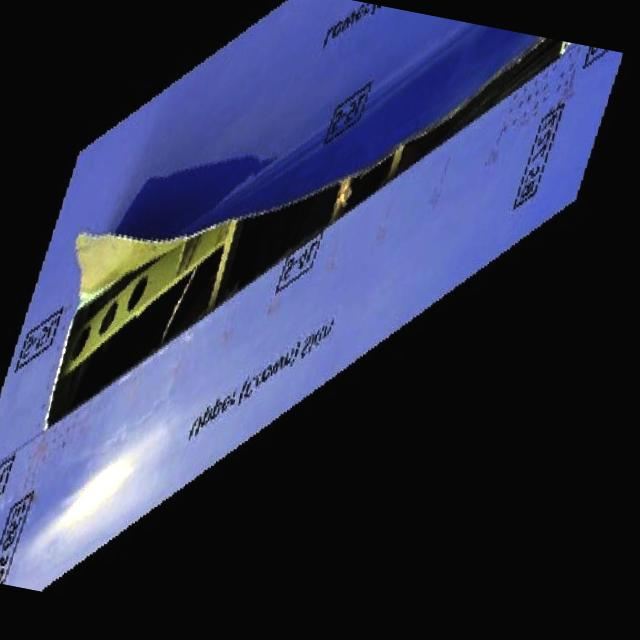crack: (37, 0, 572, 521)
